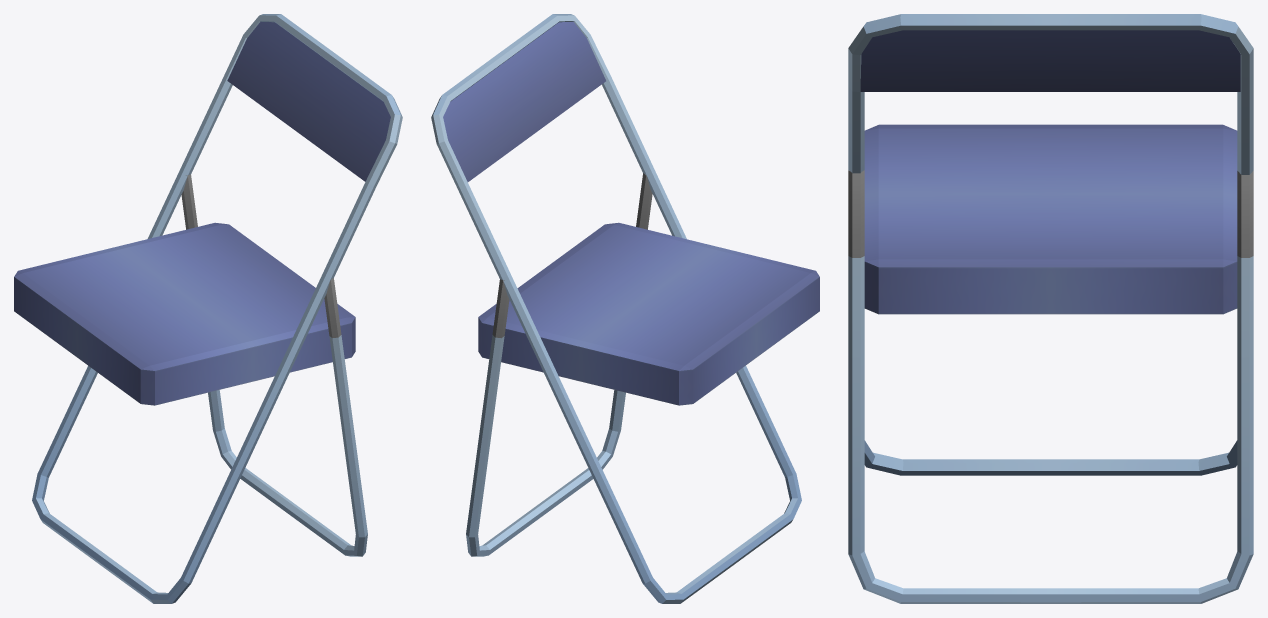
File: chair.glb
3 views of the same model, side by side, from view 1: azimuth 30°, elevation 25°; view 2: azimuth 150°, elevation 25°; view 3: azimuth 270°, elevation 25° (orthographic). The views are drawn at different scales.
Parts seen in each view (by area): view 1: chair_simple.002; view 2: chair_simple.002; view 3: chair_simple.002.
Part boxes in pixels (x1=…): chair_simple.002: x1=14, y1=14, x2=402, y2=603; chair_simple.002: x1=431, y1=14, x2=819, y2=603; chair_simple.002: x1=848, y1=14, x2=1253, y2=603.
Bounding box in the file's own units: 0.4013 × 0.6611 × 0.3957.
1 material, 1 textured.
